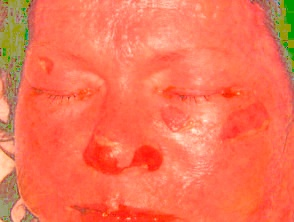SJS-TEN: (75, 112, 175, 192), (203, 94, 276, 154), (150, 92, 208, 149), (60, 199, 190, 222), (148, 80, 253, 108), (30, 85, 105, 100), (30, 48, 58, 77)
